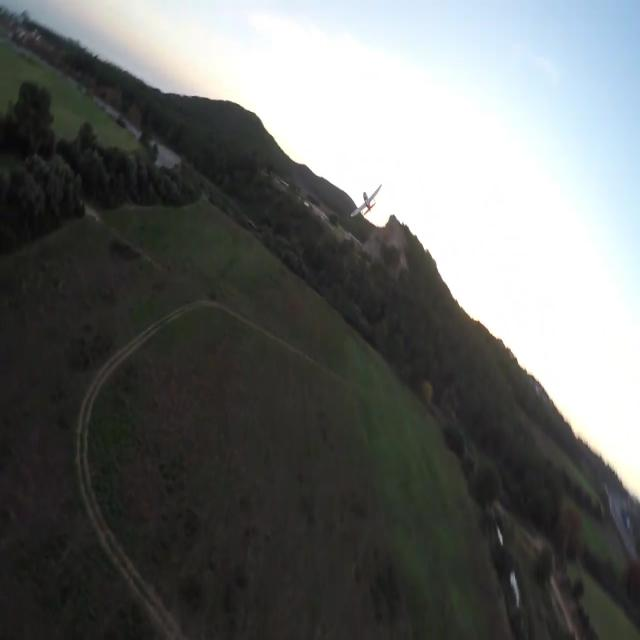iha: (350, 177, 382, 214)
